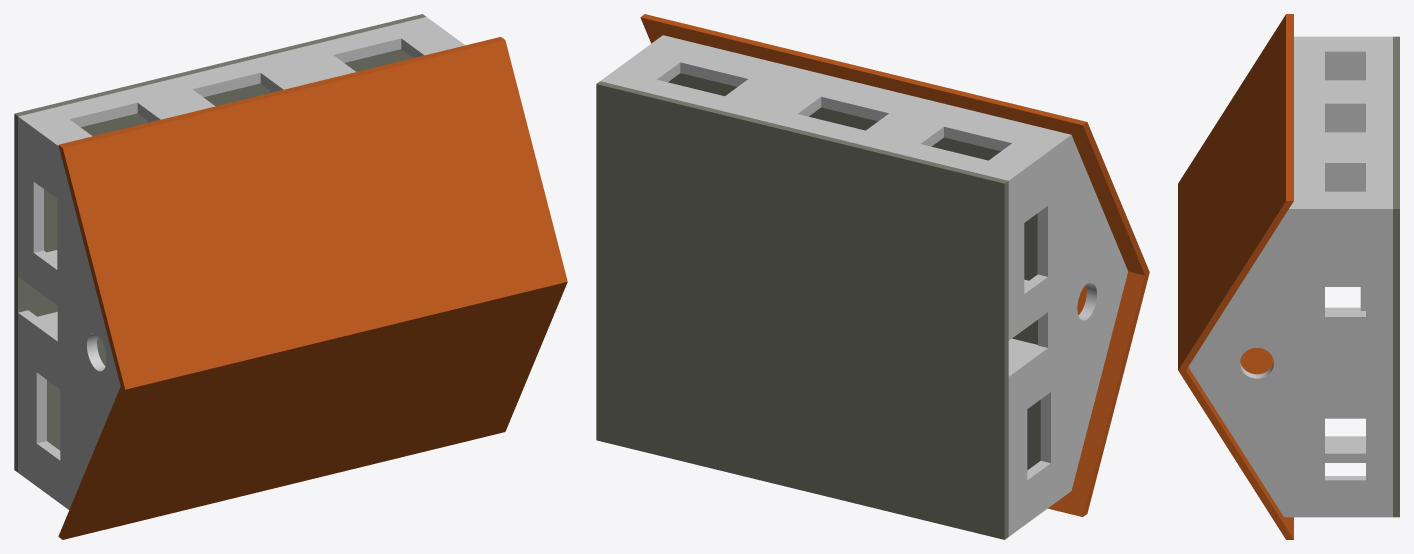
The model's file is KIThouse.obj.
The picture shows the model from 3 angles, left to right: view 1: azimuth 30°, elevation 25°; view 2: azimuth 150°, elevation 25°; view 3: azimuth 270°, elevation 25°; orthographic projection. The views are drawn at different scales.
Visible parts, largest first — view 1: product-073b1976-d302-4c1c-a68c-26cf0bea970d-body, product-92ede797-79f6-4b19-897f-a2c98ca59097-body, product-f5661f93-e3d1-49ce-8861-886e8d4ef048-body, product-65f697f6-4f4c-4836-8159-e2e335d3cbfd-body, product-73651c69-1e68-4ccd-9d97-3b16a923e18b-body, product-2ec5748a-7cb6-4b3f-92fc-fb015a7d1d9e-body; view 2: product-73651c69-1e68-4ccd-9d97-3b16a923e18b-body, product-65f697f6-4f4c-4836-8159-e2e335d3cbfd-body, product-f5661f93-e3d1-49ce-8861-886e8d4ef048-body, product-2ec5748a-7cb6-4b3f-92fc-fb015a7d1d9e-body, product-073b1976-d302-4c1c-a68c-26cf0bea970d-body, product-92ede797-79f6-4b19-897f-a2c98ca59097-body, product-92e0d19e-e296-468a-a6f2-3f0ea7c8cbda-body, product-856206b9-c21b-452d-9abc-a35a99103de2-body; view 3: product-85a76959-f2e0-457f-9e21-4bff17528c54-body, product-073b1976-d302-4c1c-a68c-26cf0bea970d-body, product-df324d5e-52a4-4197-8572-08263dee8193-body, product-65f697f6-4f4c-4836-8159-e2e335d3cbfd-body, product-73651c69-1e68-4ccd-9d97-3b16a923e18b-body, product-92ede797-79f6-4b19-897f-a2c98ca59097-body, product-d9a5cfbe-8be3-4b2a-9d05-c64586f4d0a3-body, product-856206b9-c21b-452d-9abc-a35a99103de2-body, product-463575f4-f696-42de-bde9-918a6fe7650a-body, product-f5661f93-e3d1-49ce-8861-886e8d4ef048-body, product-b3dee06e-1f4c-48f9-ab82-0b9b6bfc034e-body.
Boxes of the visible parts, x1=… form: product-073b1976-d302-4c1c-a68c-26cf0bea970d-body: x1=58, y1=37, x2=567, y2=389; product-92ede797-79f6-4b19-897f-a2c98ca59097-body: x1=58, y1=282, x2=567, y2=539; product-f5661f93-e3d1-49ce-8861-886e8d4ef048-body: x1=18, y1=117, x2=71, y2=509; product-65f697f6-4f4c-4836-8159-e2e335d3cbfd-body: x1=18, y1=17, x2=465, y2=145; product-73651c69-1e68-4ccd-9d97-3b16a923e18b-body: x1=14, y1=14, x2=426, y2=472; product-2ec5748a-7cb6-4b3f-92fc-fb015a7d1d9e-body: x1=71, y1=196, x2=120, y2=504; product-73651c69-1e68-4ccd-9d97-3b16a923e18b-body: x1=596, y1=81, x2=1008, y2=539; product-65f697f6-4f4c-4836-8159-e2e335d3cbfd-body: x1=600, y1=42, x2=1060, y2=180; product-f5661f93-e3d1-49ce-8861-886e8d4ef048-body: x1=1008, y1=142, x2=1061, y2=536; product-2ec5748a-7cb6-4b3f-92fc-fb015a7d1d9e-body: x1=1061, y1=135, x2=1127, y2=497; product-073b1976-d302-4c1c-a68c-26cf0bea970d-body: x1=640, y1=14, x2=1149, y2=275; product-92ede797-79f6-4b19-897f-a2c98ca59097-body: x1=1048, y1=271, x2=1149, y2=516; product-92e0d19e-e296-468a-a6f2-3f0ea7c8cbda-body: x1=668, y1=73, x2=1040, y2=469; product-856206b9-c21b-452d-9abc-a35a99103de2-body: x1=653, y1=35, x2=1070, y2=141; product-85a76959-f2e0-457f-9e21-4bff17528c54-body: x1=1301, y1=209, x2=1392, y2=517; product-073b1976-d302-4c1c-a68c-26cf0bea970d-body: x1=1178, y1=14, x2=1293, y2=370; product-df324d5e-52a4-4197-8572-08263dee8193-body: x1=1188, y1=209, x2=1301, y2=517; product-65f697f6-4f4c-4836-8159-e2e335d3cbfd-body: x1=1301, y1=36, x2=1392, y2=208; product-73651c69-1e68-4ccd-9d97-3b16a923e18b-body: x1=1393, y1=36, x2=1399, y2=517; product-92ede797-79f6-4b19-897f-a2c98ca59097-body: x1=1178, y1=348, x2=1293, y2=539; product-d9a5cfbe-8be3-4b2a-9d05-c64586f4d0a3-body: x1=1325, y1=172, x2=1365, y2=312; product-856206b9-c21b-452d-9abc-a35a99103de2-body: x1=1289, y1=36, x2=1301, y2=208; product-463575f4-f696-42de-bde9-918a6fe7650a-body: x1=1325, y1=436, x2=1365, y2=462; product-f5661f93-e3d1-49ce-8861-886e8d4ef048-body: x1=1325, y1=61, x2=1365, y2=310; product-b3dee06e-1f4c-48f9-ab82-0b9b6bfc034e-body: x1=1325, y1=113, x2=1365, y2=132.
Size of the model in its own units: 13 by 11 by 6.52.
